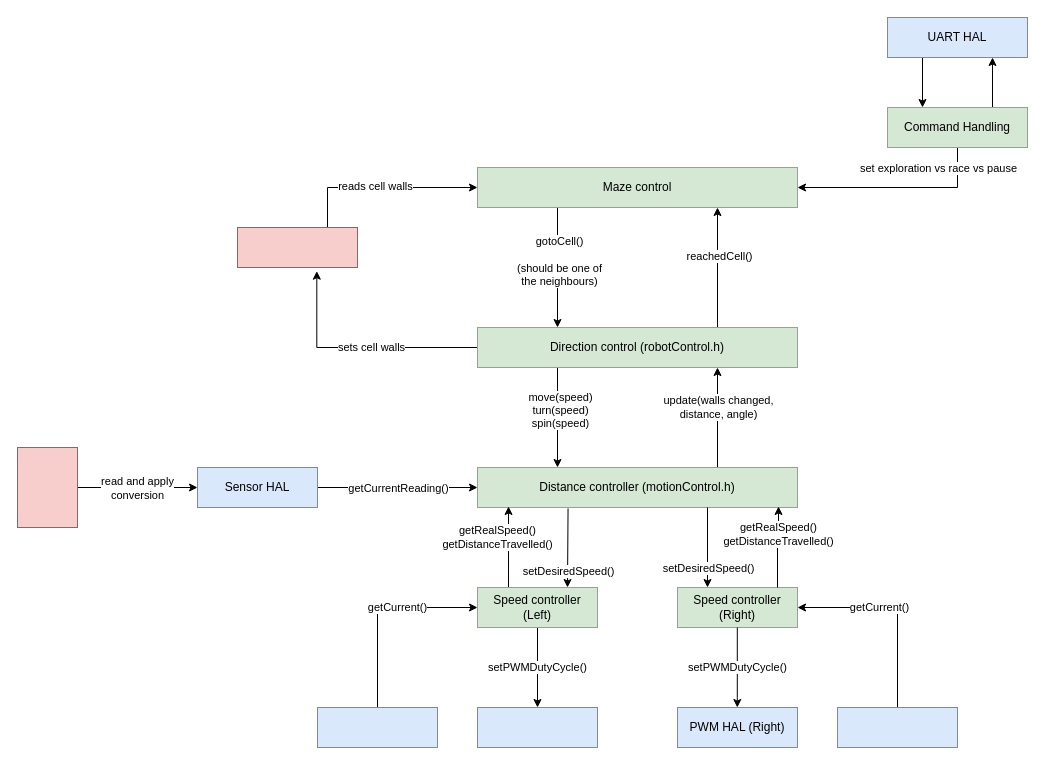
Image size: 1045x765. Some labels were removed from this diagram. The box of each missing label's shape, as (x1, y1, x2, y2) in pixels:
DMA: (16, 446, 78, 528)
Encoder HAL (Left): (316, 706, 438, 748)
Encoder HAL (Right): (836, 706, 958, 748)
maze: (236, 226, 358, 268)
PWM HAL (Left): (476, 706, 598, 748)
